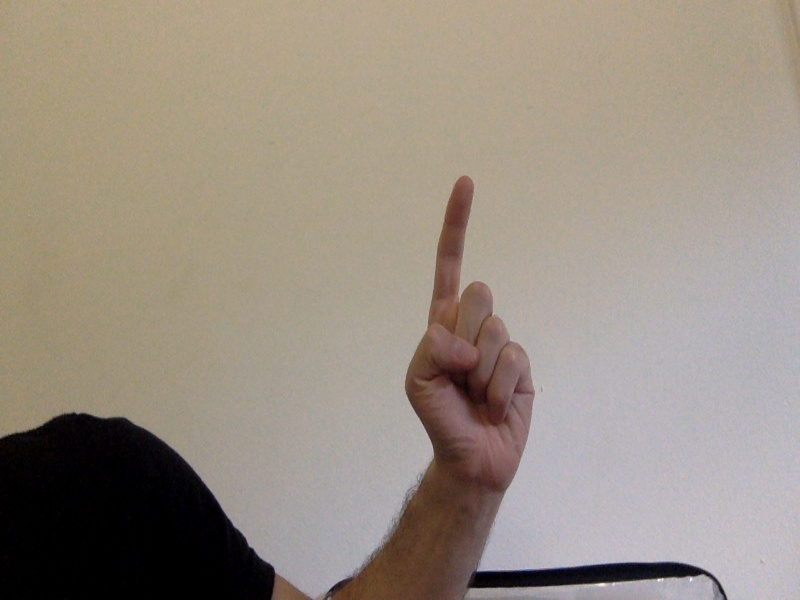1-hand: (410, 174, 533, 481)
